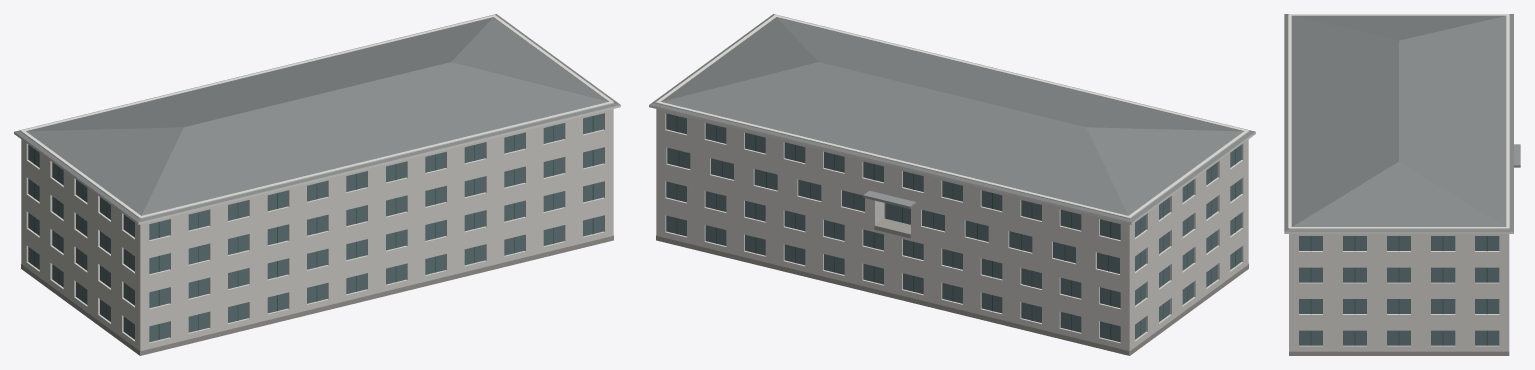
The picture shows the model from 3 angles, left to right: view 1: azimuth 30°, elevation 25°; view 2: azimuth 150°, elevation 25°; view 3: azimuth 270°, elevation 25°; orthographic projection. The views are drawn at different scales.
Parts seen in each view (by area): view 1: gymB__wall, gymB__roofAccent, gymB__glass, gymB__trim, gymB__base, gymB__frame, gymB__parapet; view 2: gymB__wall, gymB__roofAccent, gymB__glass, gymB__trim, gymB__base, gymB__frame, gymB__parapet; view 3: gymB__roofAccent, gymB__wall, gymB__glass, gymB__trim, gymB__base, gymB__frame.
Boxes of the visible parts, x1,y1,x2,y2 form: gymB__wall: [21, 109, 613, 355]; gymB__roofAccent: [14, 14, 620, 222]; gymB__glass: [28, 113, 603, 342]; gymB__trim: [14, 15, 620, 224]; gymB__base: [21, 235, 613, 355]; gymB__frame: [34, 116, 593, 339]; gymB__parapet: [26, 17, 608, 218]; gymB__wall: [656, 109, 1248, 355]; gymB__roofAccent: [649, 14, 1255, 222]; gymB__glass: [666, 113, 1241, 342]; gymB__trim: [649, 15, 1255, 224]; gymB__base: [656, 218, 1248, 355]; gymB__frame: [676, 116, 1235, 339]; gymB__parapet: [661, 17, 1243, 218]; gymB__roofAccent: [1284, 14, 1513, 231]; gymB__wall: [1289, 234, 1509, 351]; gymB__glass: [1299, 236, 1499, 345]; gymB__trim: [1284, 14, 1513, 233]; gymB__base: [1289, 351, 1509, 355]; gymB__frame: [1310, 236, 1487, 345].
Size of the model in its own units: 53.4 by 16.92 by 24.51.
